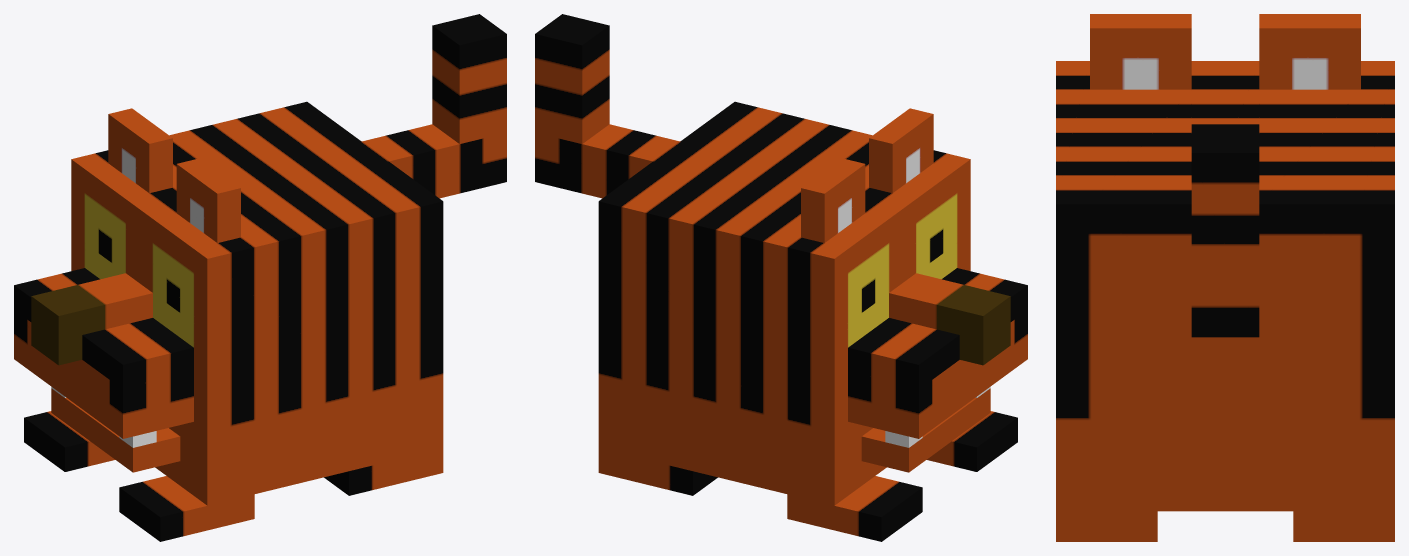
Rendered from chapter3_tiger_10.fbx.
The picture shows the model from 3 angles, left to right: view 1: azimuth 30°, elevation 25°; view 2: azimuth 150°, elevation 25°; view 3: azimuth 270°, elevation 25°; orthographic projection. The views are drawn at different scales.
Visible parts, largest first — view 1: Matrix; view 2: Matrix; view 3: Matrix.
Part boxes in pixels (x1=…): Matrix: x1=14, y1=14, x2=506, y2=541; Matrix: x1=535, y1=14, x2=1027, y2=541; Matrix: x1=1056, y1=14, x2=1394, y2=541.
Bounding box in the file's own units: 19 × 15 × 10.
